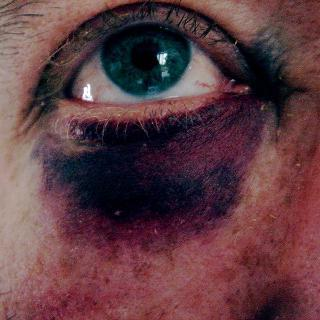pupil: (129, 37, 162, 70)
